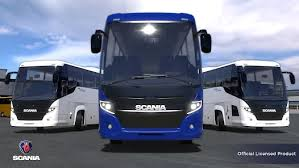bus: (92, 12, 214, 143), (197, 59, 296, 132), (4, 61, 103, 133)
